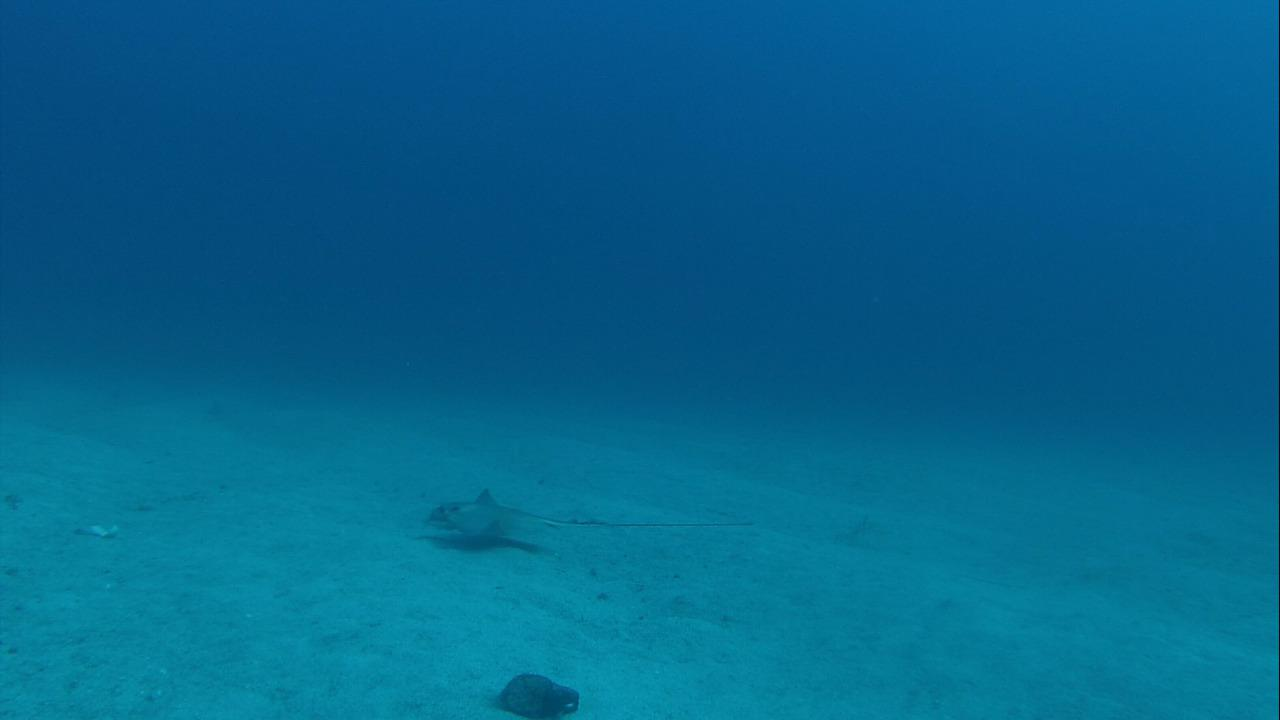myliobatis: (421, 482, 764, 558)
